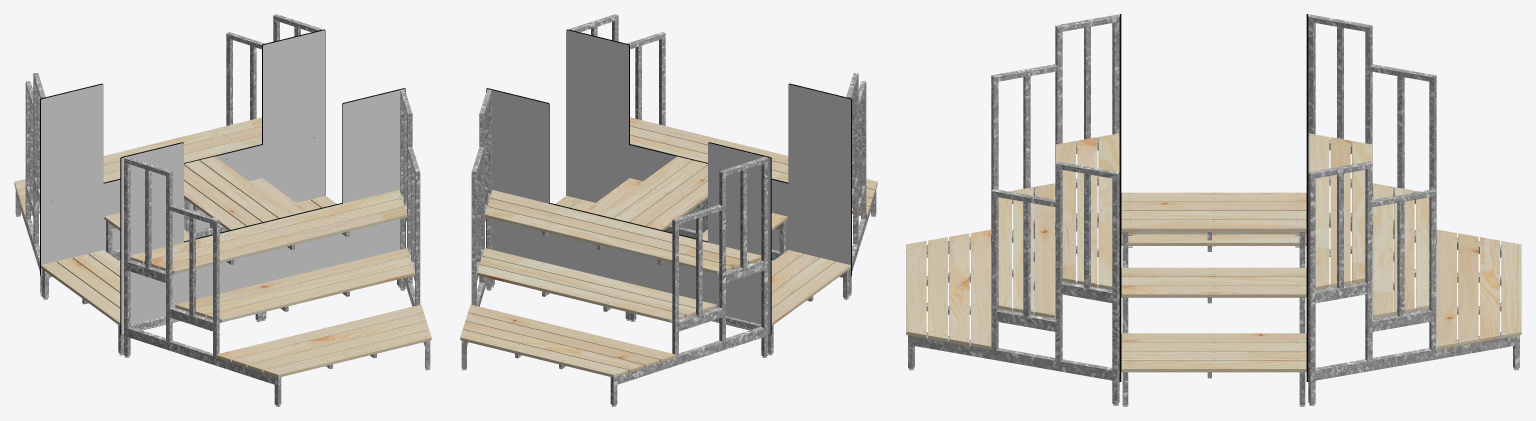
Rendered from treppenspiel.glb.
3 renders of one model, left to right at view 1: azimuth 30°, elevation 25°; view 2: azimuth 150°, elevation 25°; view 3: azimuth 270°, elevation 25°, orthographic. The views are drawn at different scales.
Parts seen in each view (by area): view 1: HPL, Kiefernholz, Gestell, HPL-Kante; view 2: HPL, Kiefernholz, Gestell, HPL-Kante; view 3: Kiefernholz, Gestell, HPL-Kante.
Boxes of the visible parts, <box> form: HPL: <box>41,30,405,334</box>; Kiefernholz: <box>14,117,431,377</box>; Gestell: <box>15,14,430,405</box>; HPL-Kante: <box>40,29,405,335</box>; HPL: <box>486,30,850,334</box>; Kiefernholz: <box>460,117,877,377</box>; Gestell: <box>461,14,876,405</box>; HPL-Kante: <box>486,29,851,335</box>; Kiefernholz: <box>906,133,1521,372</box>; Gestell: <box>908,14,1519,404</box>; HPL-Kante: <box>1119,14,1308,381</box>.
Size of the model in its own units: 2.69 by 1.8 by 4.32.
4 materials, 2 textured.
